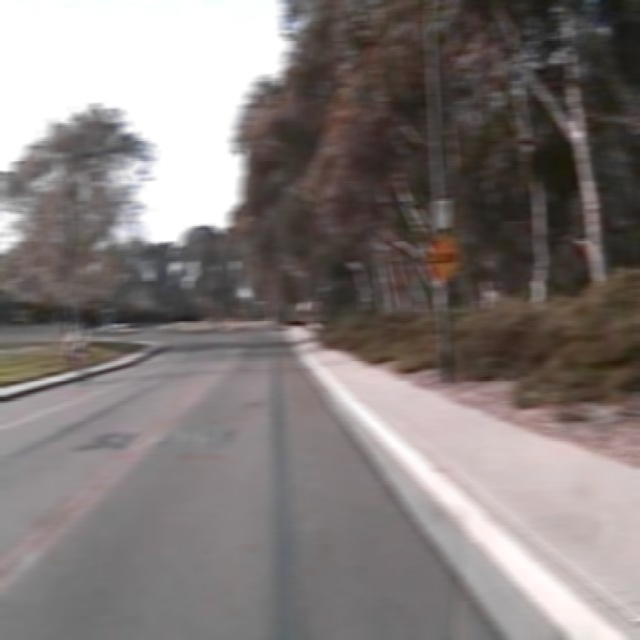slow: (424, 229, 464, 284)
